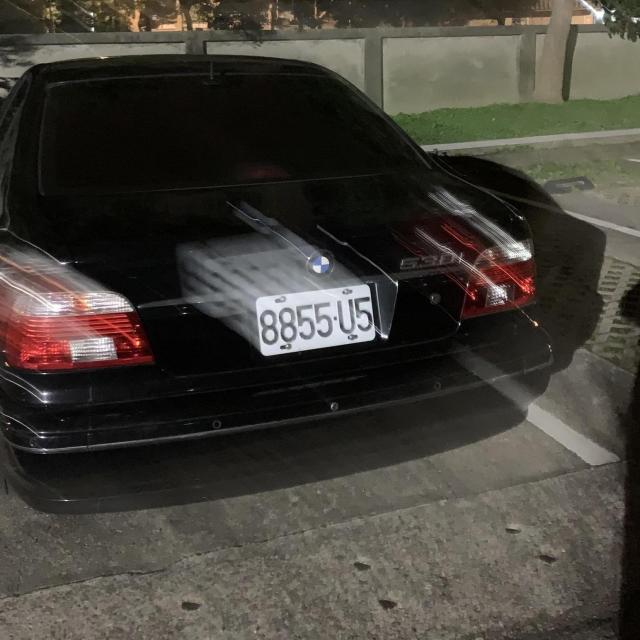W: (246, 278, 384, 363)
